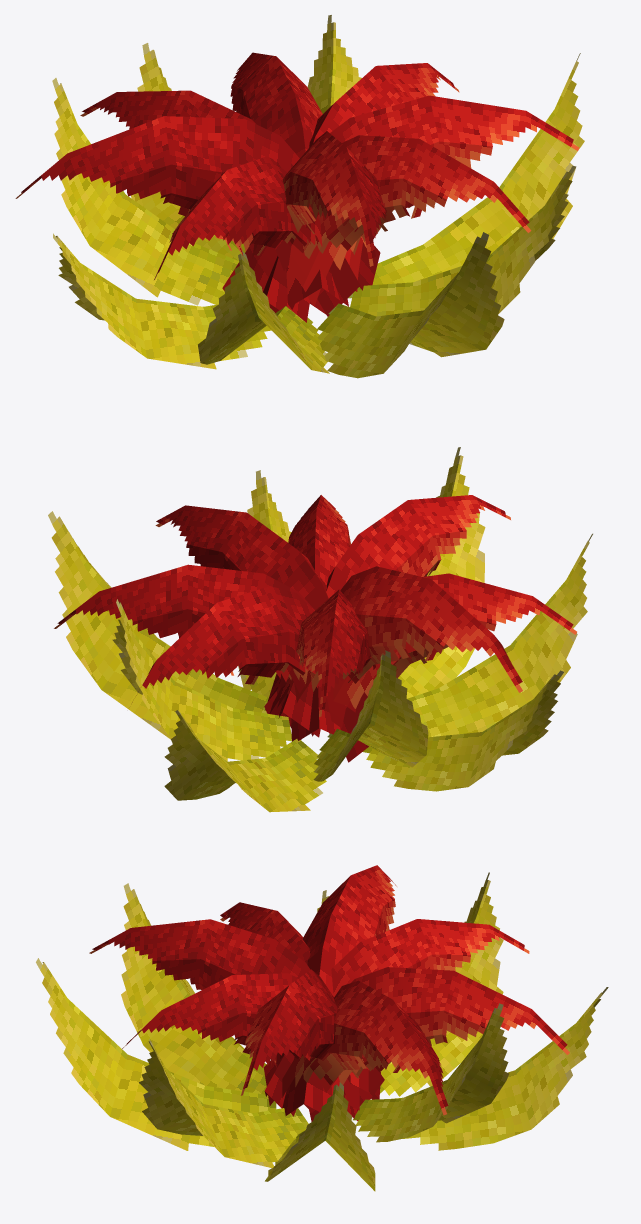
File: PoisonBloom.fbx
The picture shows the model from 3 angles, top to bottom: view 1: azimuth 30°, elevation 25°; view 2: azimuth 150°, elevation 25°; view 3: azimuth 270°, elevation 25°; orthographic projection. The views are drawn at different scales.
Parts seen in each view (by area): view 1: RedLeaf.005, Leaf.006; view 2: RedLeaf.005, Leaf.006; view 3: RedLeaf.005, Leaf.006.
Boxes of the visible parts, x1,y1,x2,y2 form: RedLeaf.005: [15, 52, 579, 322]; Leaf.006: [52, 15, 584, 378]; RedLeaf.005: [54, 495, 576, 762]; Leaf.006: [48, 447, 592, 812]; RedLeaf.005: [89, 865, 569, 1121]; Leaf.006: [36, 872, 608, 1191].
Size of the model in its own units: 416 by 214 by 433.
2 materials, 2 textured.
